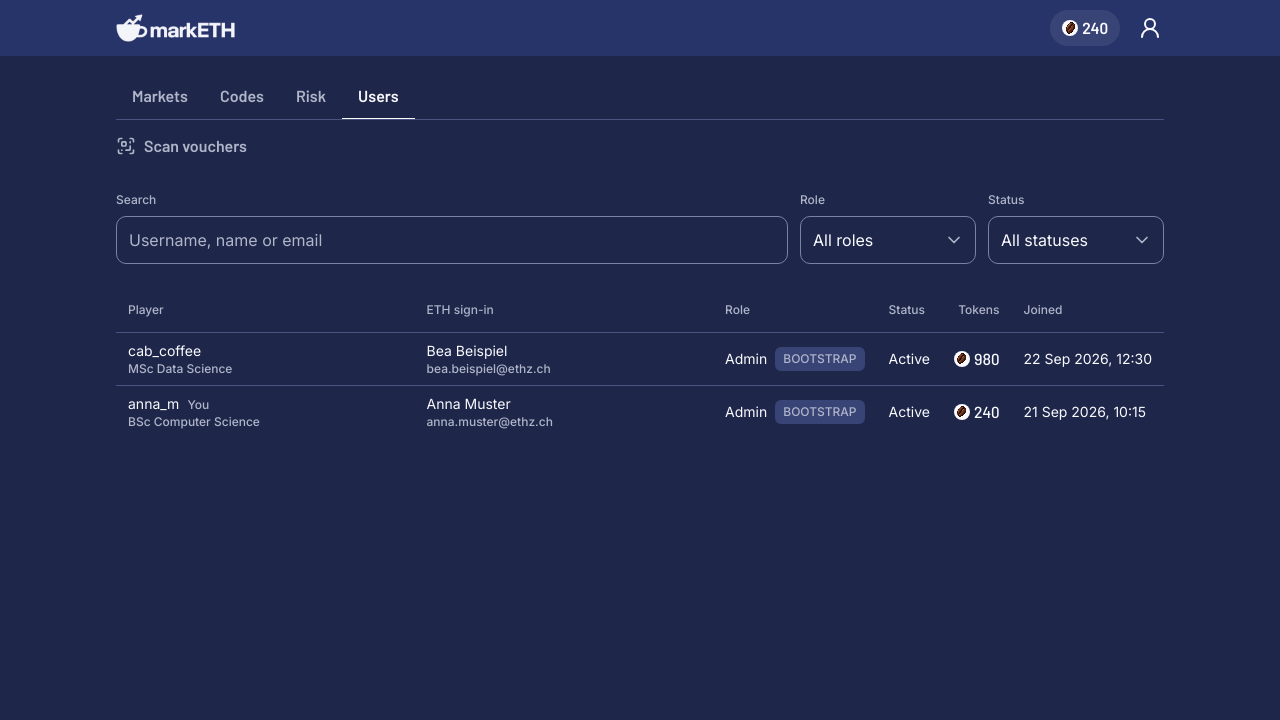
it: the dialog of a user › a bootstrap admin can be neither suspended nor given another role, and the dialog says why
Click the button "cab_coffee MSc Data Science".
click(165, 350)  # box [128,332,402,384]
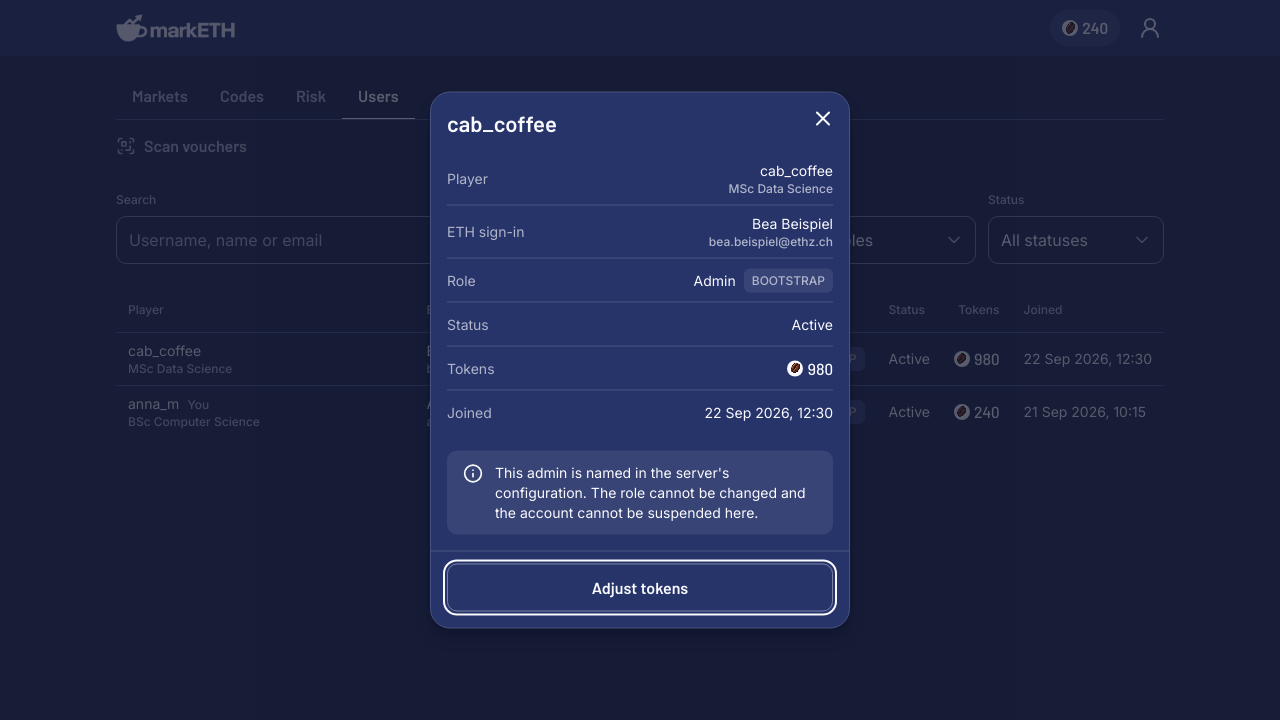
Result: the text "This admin is named in the server's configuration. The role cannot be changed and the account cannot be suspended here." is shown at [495,464,806,520]
